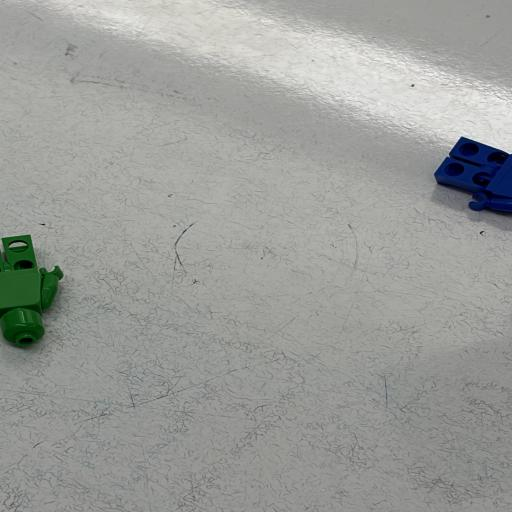Blue-Lego: (434, 137, 512, 213)
Green-Lego: (0, 235, 63, 346)
